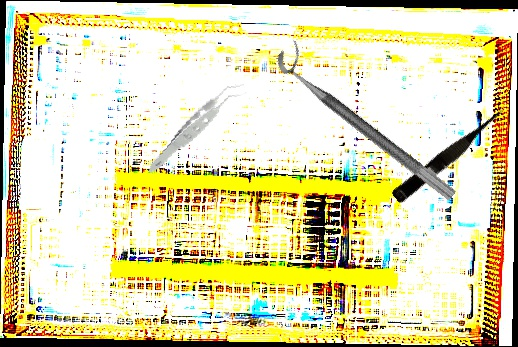Fixation Ring: (271, 37, 469, 203)
Micro Scissor: (390, 104, 512, 207)
Tissue Forceps: (133, 81, 263, 175)
